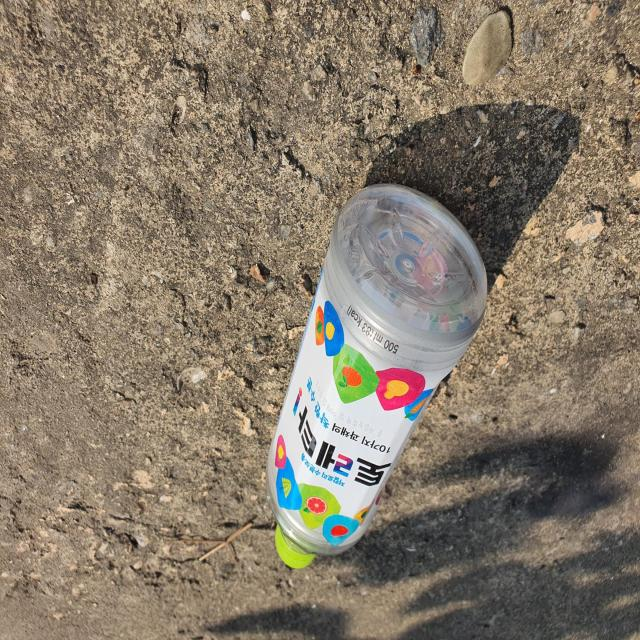plastic: (266, 184, 487, 568)
